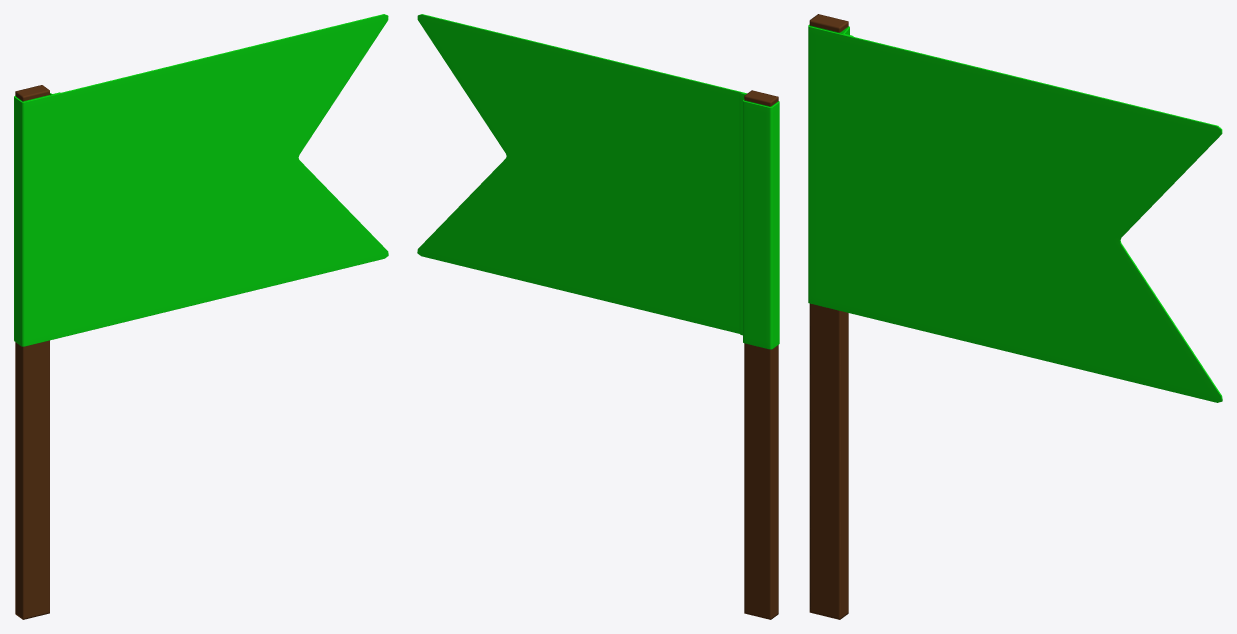
File: flag_checkpoint.fbx
The picture shows the model from 3 angles, left to right: view 1: azimuth 30°, elevation 25°; view 2: azimuth 150°, elevation 25°; view 3: azimuth 330°, elevation 25°; orthographic projection. The views are drawn at different scales.
Parts seen in each view (by area): view 1: hand-flag-001; view 2: hand-flag-001; view 3: hand-flag-001.
Boxes of the visible parts, bbox=[...] form: hand-flag-001: bbox=[14, 14, 388, 619]; hand-flag-001: bbox=[417, 14, 779, 619]; hand-flag-001: bbox=[808, 14, 1222, 619].
Size of the model in its own units: 21.98 by 29.97 by 0.9625.
